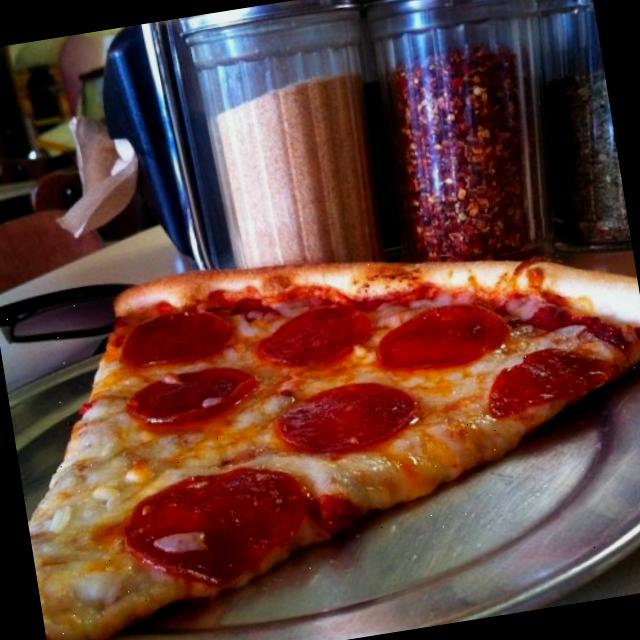pepperoni: (118, 452, 319, 592), (350, 278, 534, 388), (263, 367, 427, 479), (100, 350, 262, 446), (239, 286, 386, 390), (110, 289, 240, 388), (474, 338, 604, 420)
pizza: (29, 262, 640, 640)
